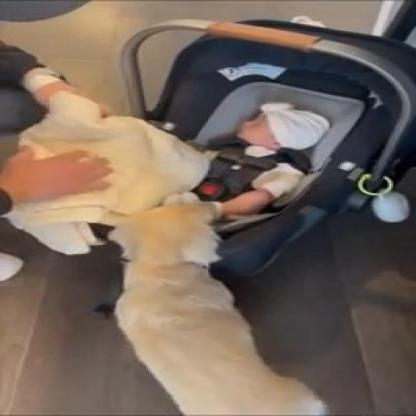dog: (112, 191, 334, 414)
